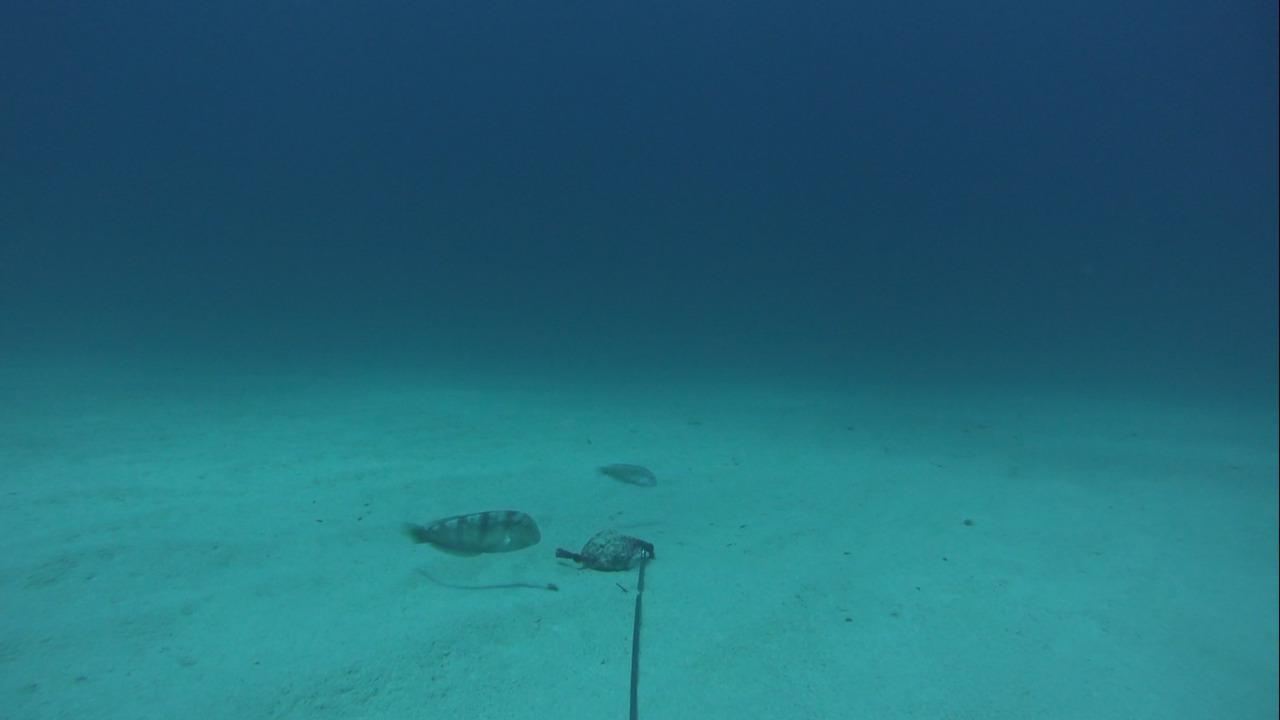raor: (400, 506, 543, 560), (591, 459, 663, 490)
